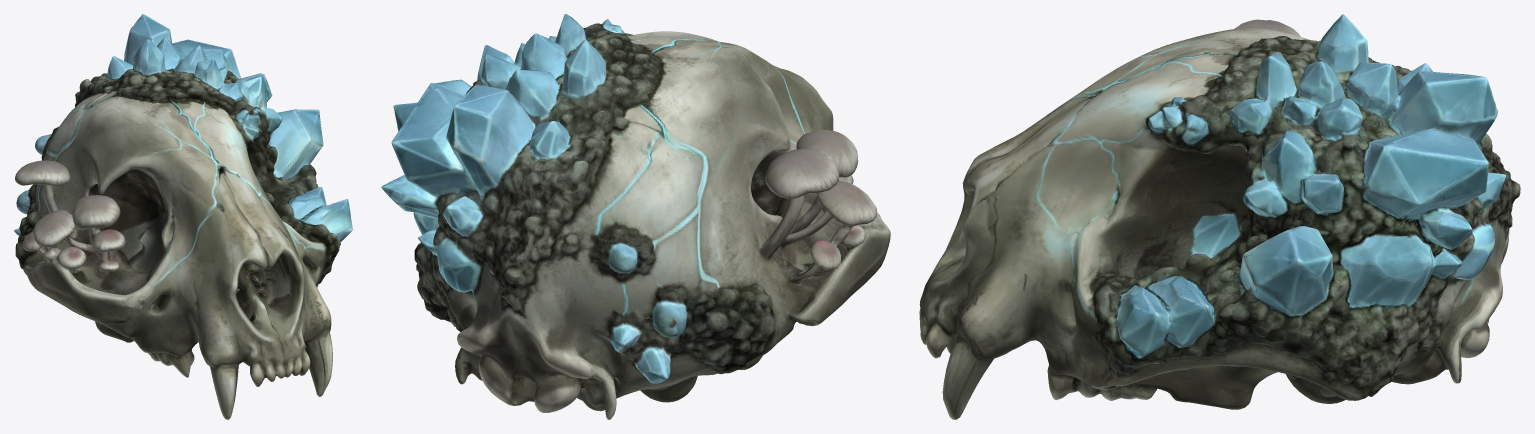
Rendered from Meshy_AI_Crystal_Crown_Skull_0413220816_texture.fbx.
The picture shows the model from 3 angles, left to right: view 1: azimuth 30°, elevation 25°; view 2: azimuth 150°, elevation 25°; view 3: azimuth 270°, elevation 25°; orthographic projection. The views are drawn at different scales.
Visible parts, largest first — view 1: Mesh_0; view 2: Mesh_0; view 3: Mesh_0.
Part boxes in pixels (x1,y1,x2,y2): Mesh_0: [14, 14, 352, 419]; Mesh_0: [381, 14, 890, 419]; Mesh_0: [919, 14, 1520, 419].
Size of the model in its own units: 165 by 134 by 191.
Materials: 1 (1 with a texture image).
